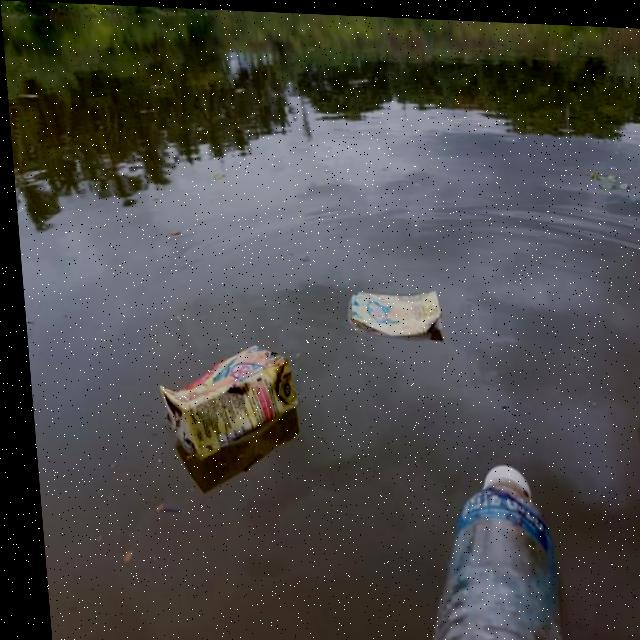paper: (135, 329, 306, 465), (337, 271, 451, 355)
waterbottle: (383, 447, 594, 640)
